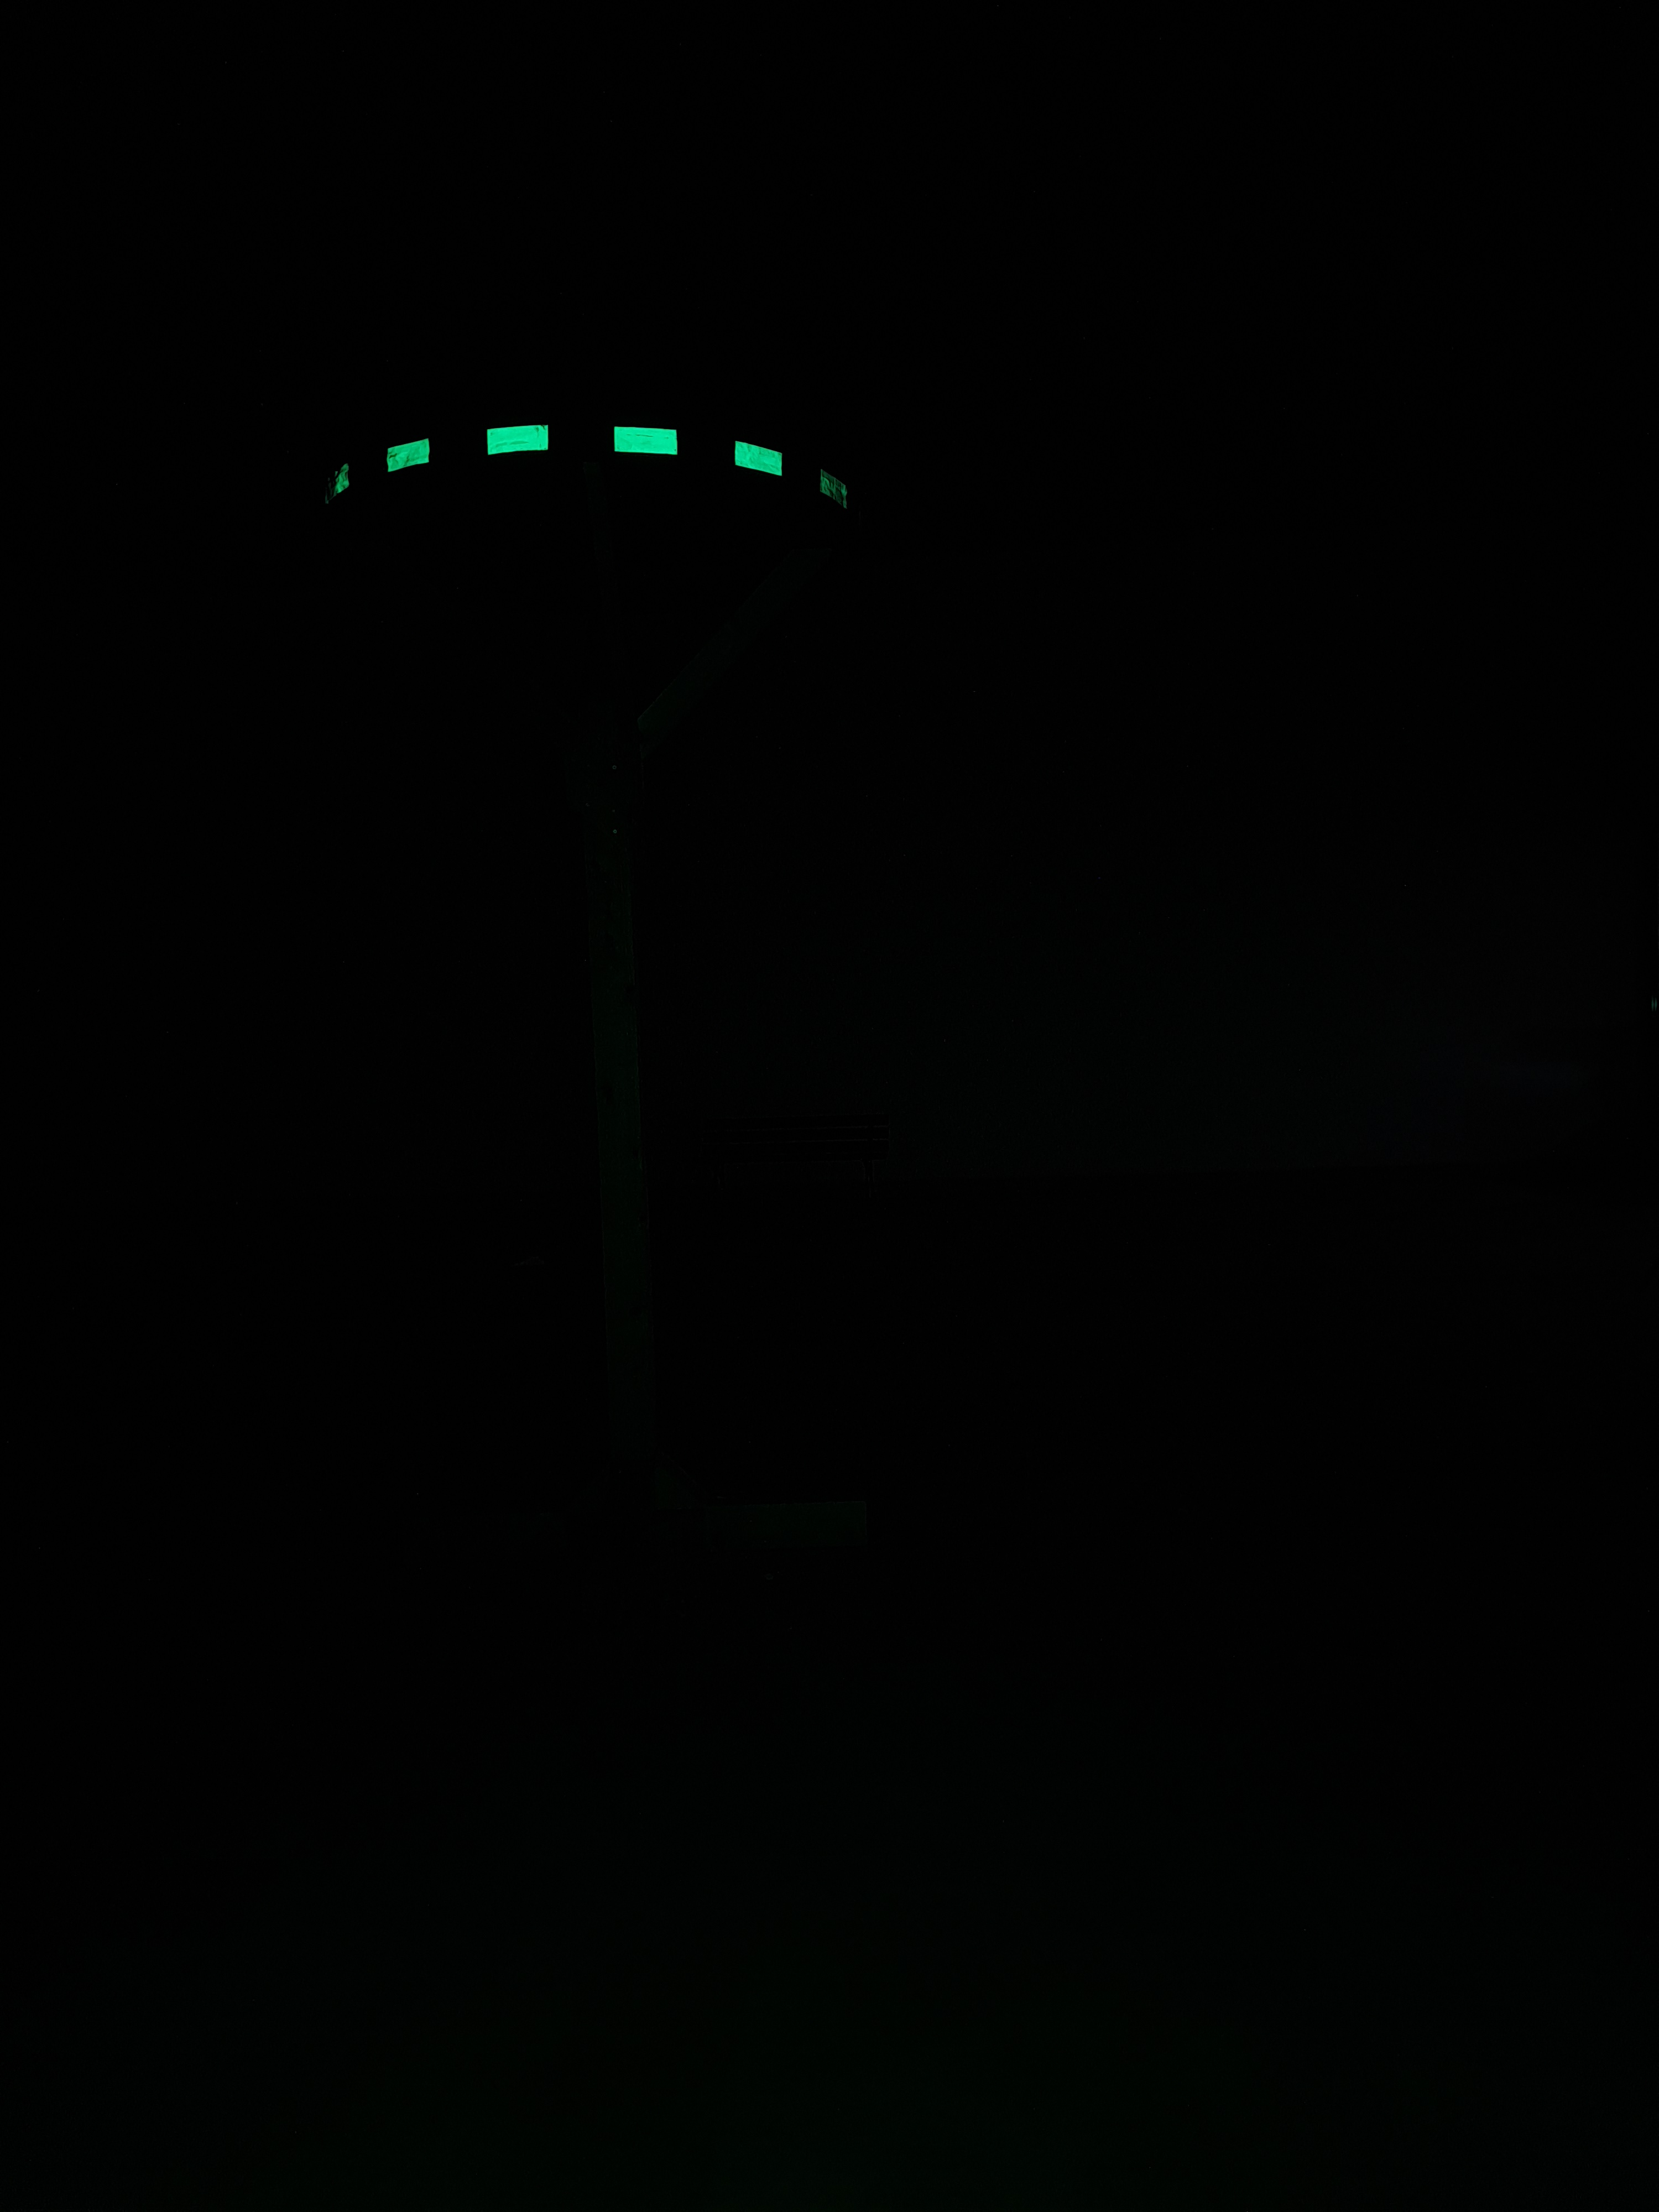hoop: (305, 413, 854, 523)
